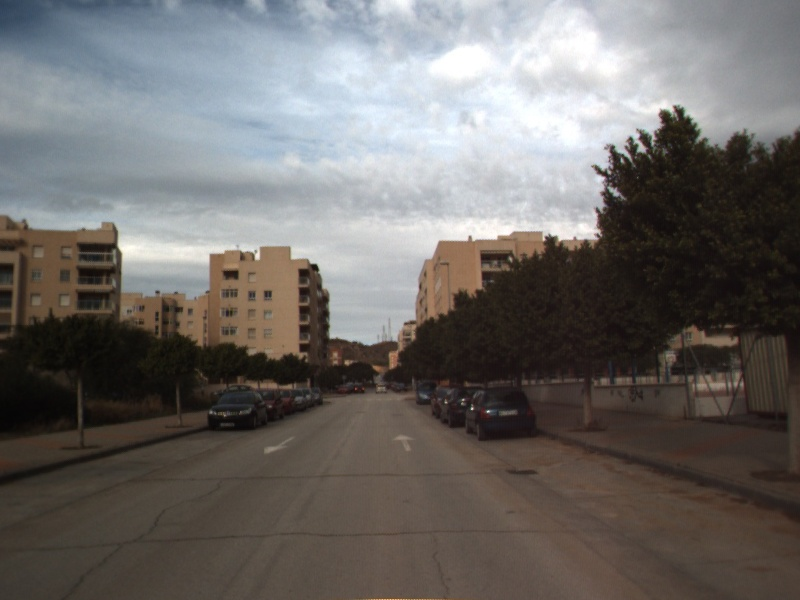STRAIGHT: (390, 432, 418, 453)
